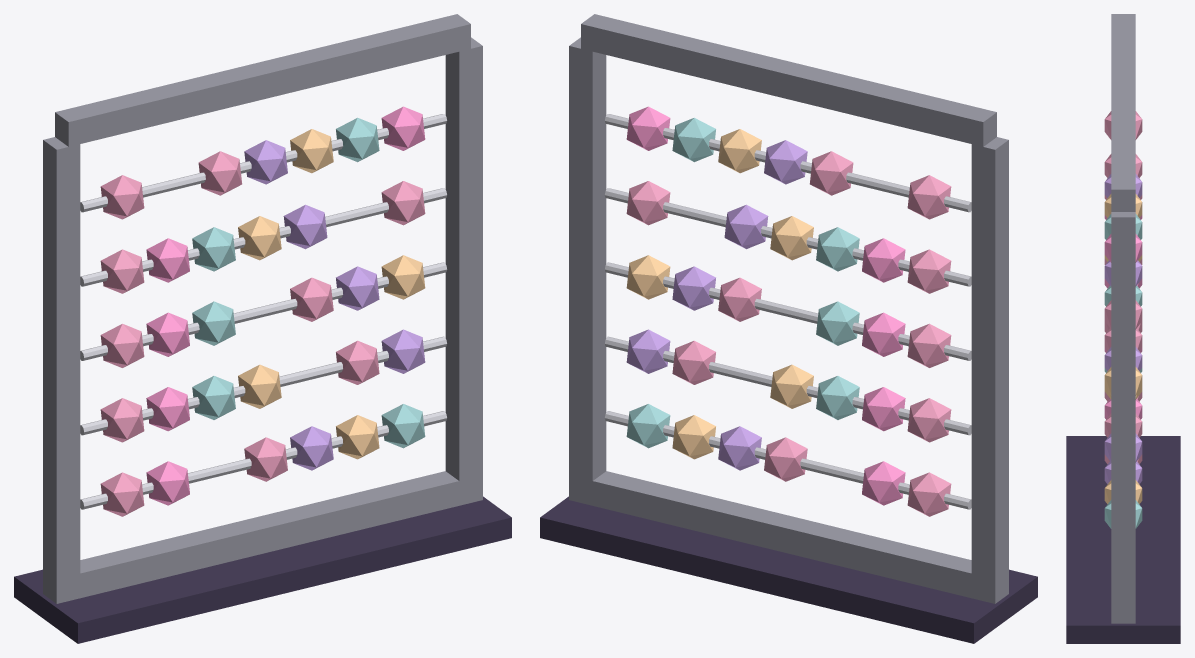
File: hotspot_datascience_abacus.glb
The picture shows the model from 3 angles, left to right: view 1: azimuth 30°, elevation 25°; view 2: azimuth 150°, elevation 25°; view 3: azimuth 270°, elevation 25°; orthographic projection. The views are drawn at different scales.
Visible parts, largest first — view 1: hotspot_datascience_abacus; view 2: hotspot_datascience_abacus; view 3: hotspot_datascience_abacus.
Boxes of the visible parts, bbox=[...] form: hotspot_datascience_abacus: bbox=[14, 14, 511, 643]; hotspot_datascience_abacus: bbox=[540, 14, 1037, 643]; hotspot_datascience_abacus: bbox=[1066, 14, 1180, 643].
Size of the model in its own units: 0.55 by 0.605 by 0.14.
